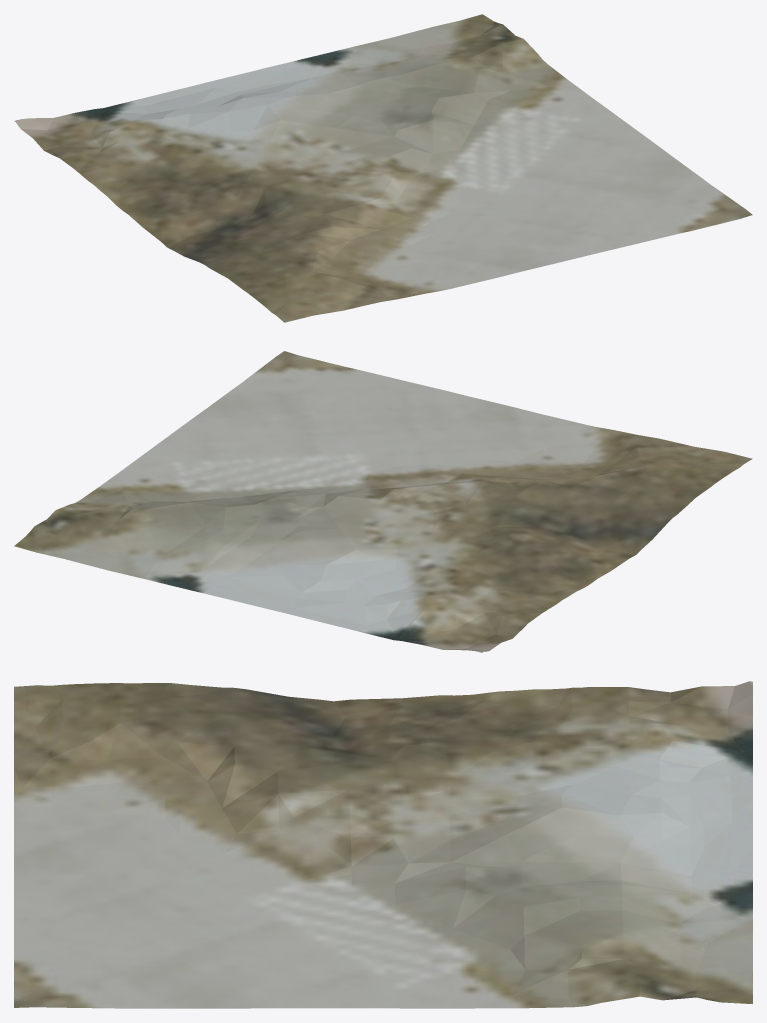
3 renders of one model, top to bottom at view 1: azimuth 30°, elevation 25°; view 2: azimuth 150°, elevation 25°; view 3: azimuth 270°, elevation 25°, orthographic. The views are drawn at different scales.
Bounding box in the file's own units: 52.22 × 1.95 × 52.22.
2 materials, 2 textured.
